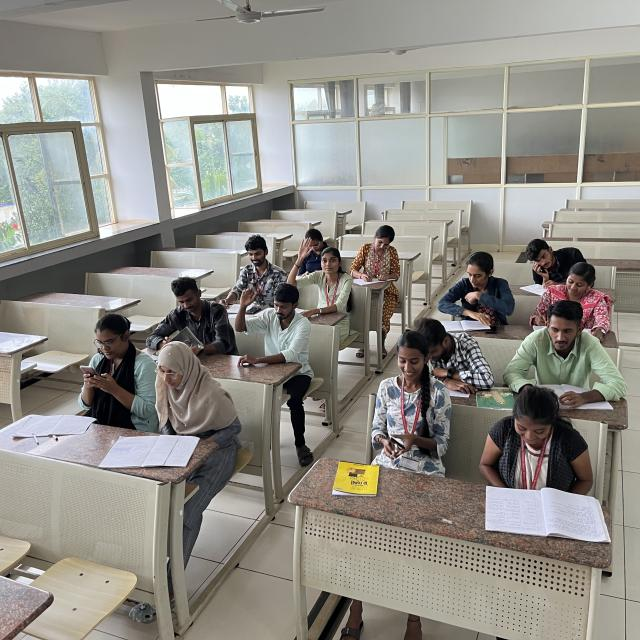Hand Rising: (232, 281, 297, 365), (287, 236, 347, 312)
Reading: (478, 388, 607, 524), (131, 352, 215, 464), (536, 302, 618, 407), (151, 275, 223, 348), (449, 253, 502, 329)
Using Phone: (80, 315, 152, 414), (380, 334, 431, 471), (523, 237, 589, 282)
Writing: (532, 271, 608, 336), (351, 222, 398, 288)
